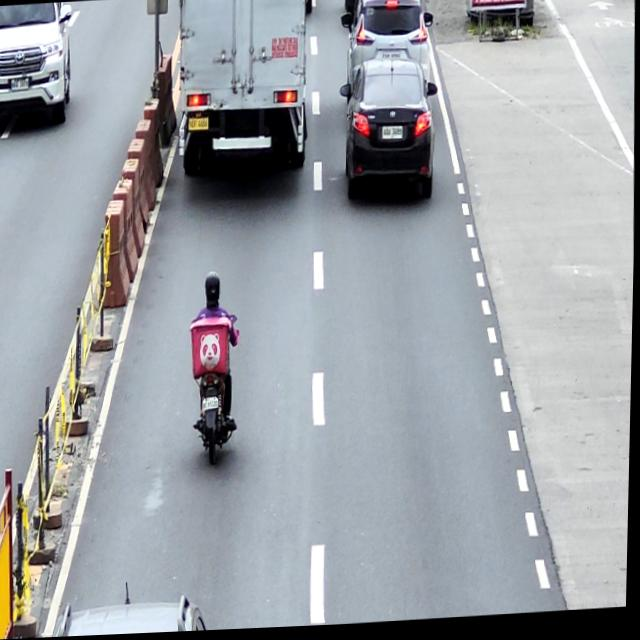Car: (337, 60, 440, 206), (0, 1, 72, 126), (338, 0, 435, 90)
License-Plate: (382, 129, 403, 144), (188, 118, 209, 132), (11, 78, 30, 92), (203, 398, 220, 413), (382, 54, 401, 64)
Motorcycle: (190, 324, 238, 469)
Truck: (176, 0, 314, 174)
